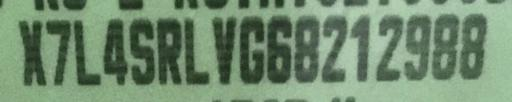letter: (458, 10, 490, 84), (100, 13, 130, 87), (264, 13, 294, 87), (16, 18, 48, 86), (72, 18, 104, 86), (42, 18, 74, 86), (238, 11, 266, 87), (430, 11, 460, 81), (374, 13, 404, 83), (182, 15, 212, 85), (127, 16, 157, 86), (210, 15, 238, 89), (320, 12, 348, 84), (292, 12, 320, 84), (154, 14, 182, 86), (402, 12, 430, 80), (348, 10, 370, 82)
